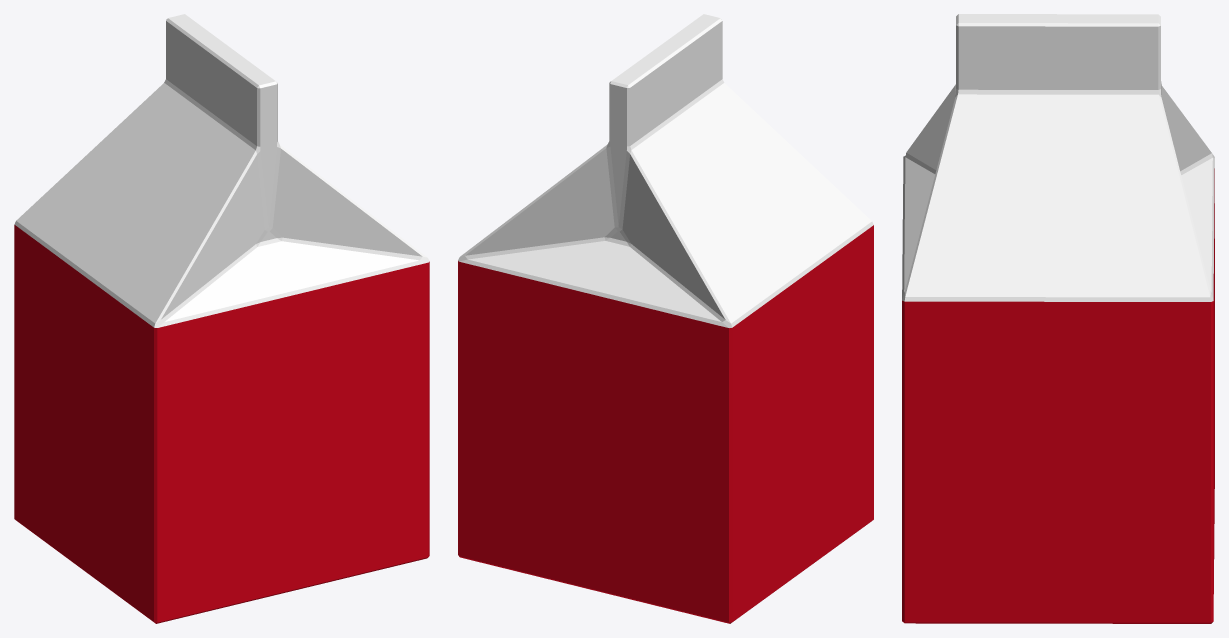
Rendered from Fridgerer_Cream.glb.
3 views of the same model, side by side, from view 1: azimuth 30°, elevation 25°; view 2: azimuth 150°, elevation 25°; view 3: azimuth 270°, elevation 25° (orthographic). The views are drawn at different scales.
Visible parts, largest first — view 1: Cream; view 2: Cream; view 3: Cream.
Boxes of the visible parts, x1,y1,x2,y2 form: Cream: [14, 14, 429, 623]; Cream: [458, 14, 873, 623]; Cream: [902, 14, 1214, 623].
Bounding box in the file's own units: 0.1021 × 0.1733 × 0.0922.
Materials: 2 (1 with a texture image).
